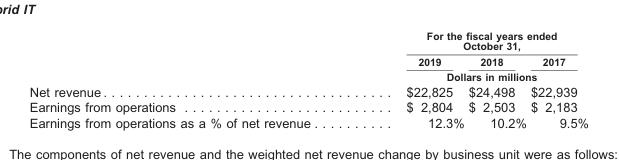table: (28, 29, 588, 129)
table column: (28, 29, 361, 129), (361, 29, 465, 129), (465, 29, 527, 129), (527, 29, 588, 129)
table column header: (28, 29, 588, 82)
table row: (28, 29, 588, 53), (28, 82, 588, 98), (28, 98, 588, 114), (28, 53, 588, 68), (28, 114, 588, 129), (28, 68, 588, 82)
table spanning cell: (361, 29, 588, 53), (361, 68, 588, 82)
